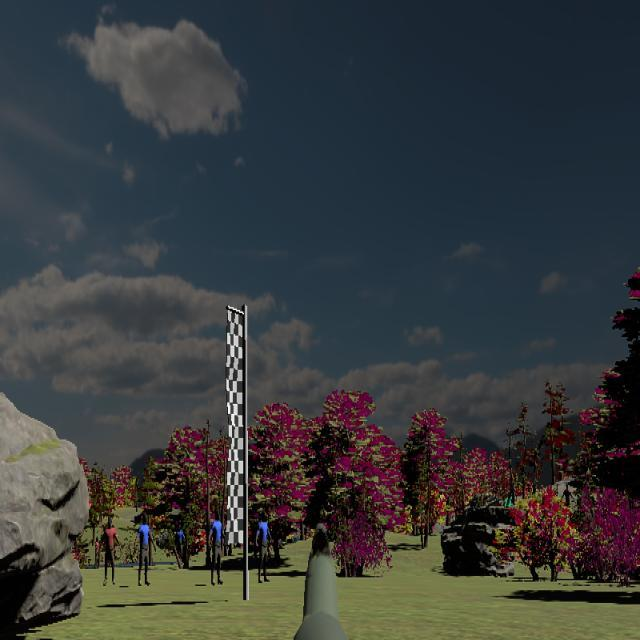Human: (98, 517, 122, 586), (134, 512, 156, 587), (209, 507, 226, 587), (256, 509, 273, 584), (174, 521, 184, 572)
